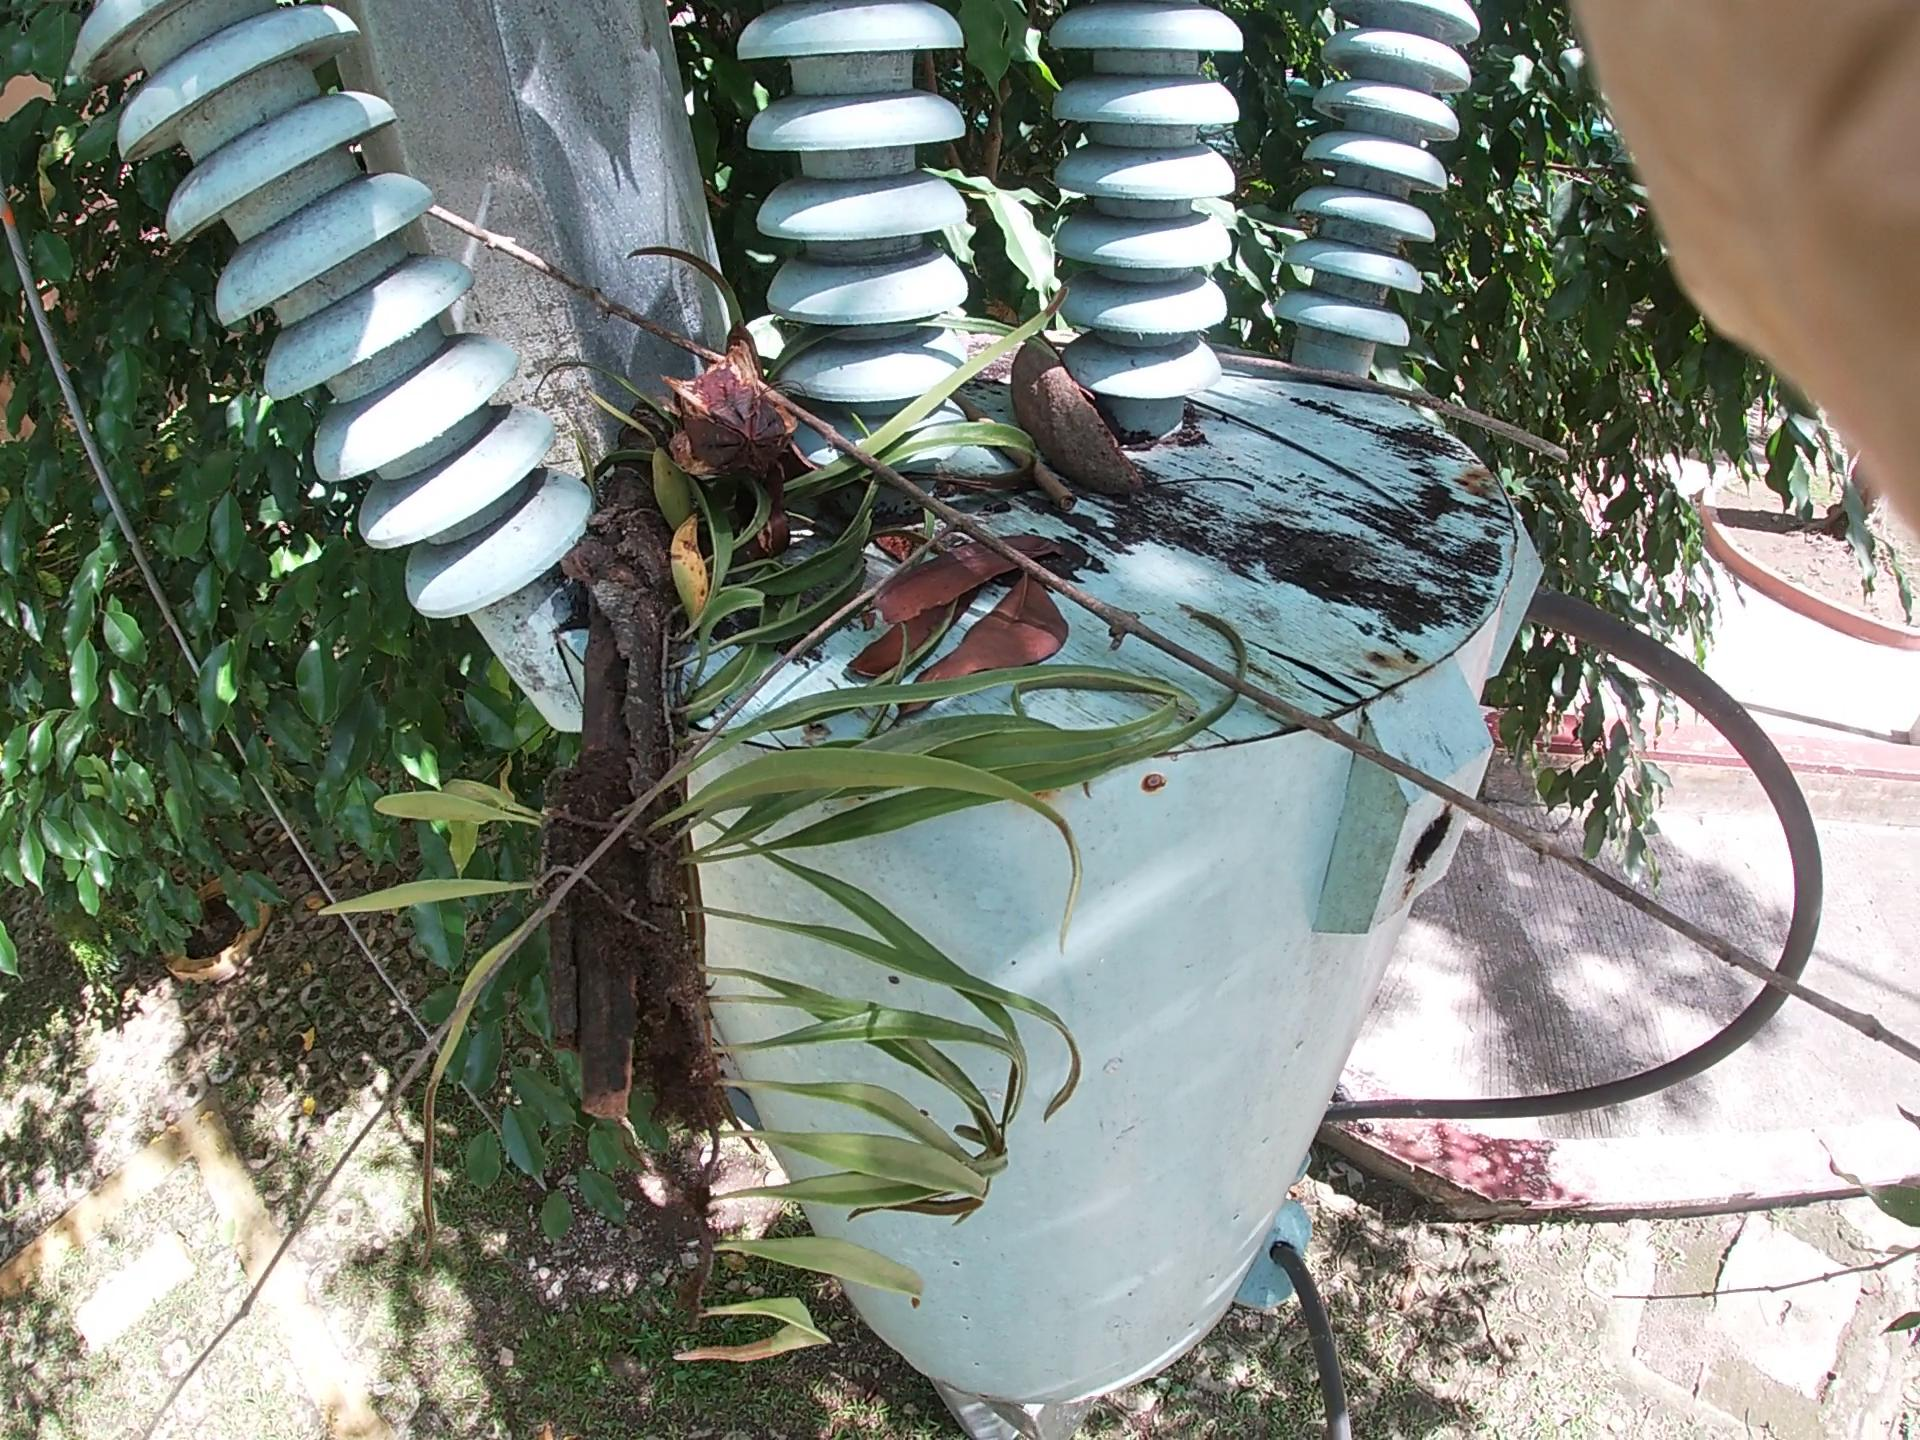branch with leaves: (425, 2, 1025, 1242)
leaf: (869, 526, 1034, 717)
mahogany fruit: (665, 362, 892, 545), (992, 333, 1191, 514)
tree branch: (428, 189, 1612, 895), (1214, 322, 1628, 504), (992, 362, 1132, 584)
